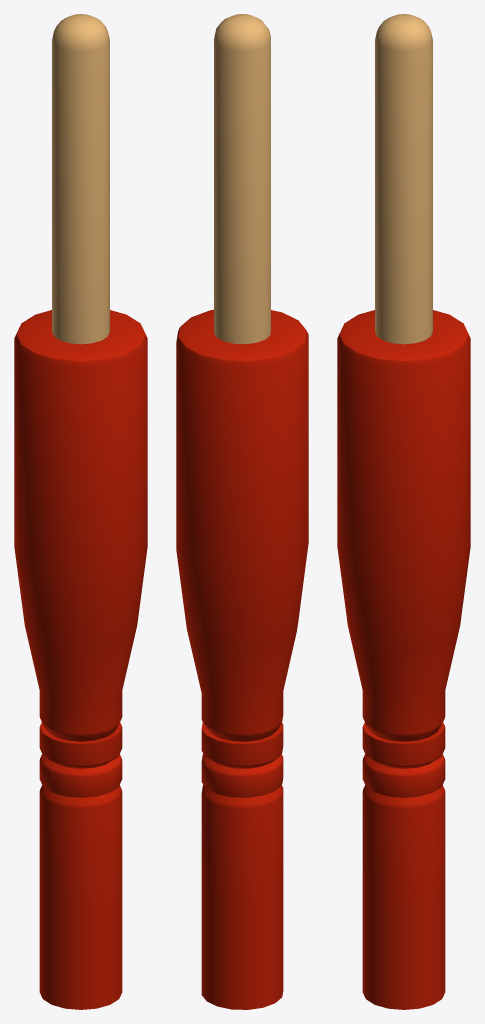
Rendered from cableTOP_red.fbx.
3 views of the same model, side by side, from view 1: azimuth 90°, elevation 25°; view 2: azimuth 210°, elevation 25°; view 3: azimuth 270°, elevation 25° (orthographic).
Visible parts, largest first — view 1: Cylinder.001; view 2: Cylinder.001; view 3: Cylinder.001.
Boxes of the visible parts, <box> form: Cylinder.001: <box>14,14,147,1009</box>; Cylinder.001: <box>176,14,308,1009</box>; Cylinder.001: <box>337,14,470,1009</box>.
Bounding box in the file's own units: 11.02 × 88.85 × 11.02.
